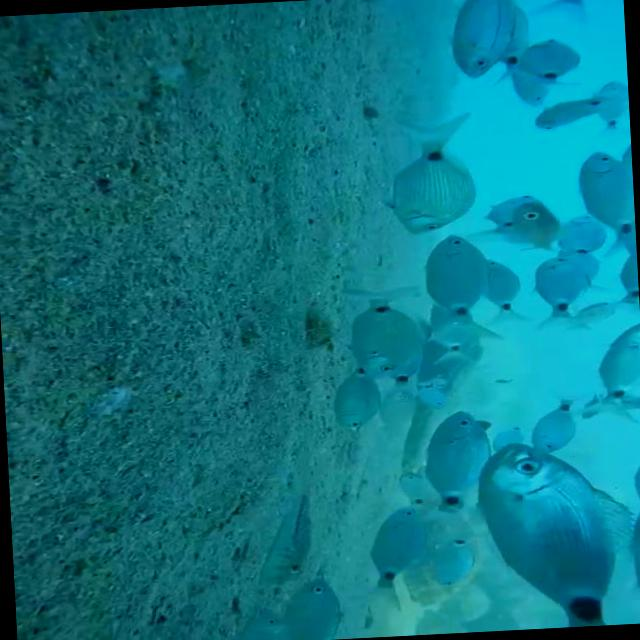Balon Baligi: (254, 484, 318, 588)
